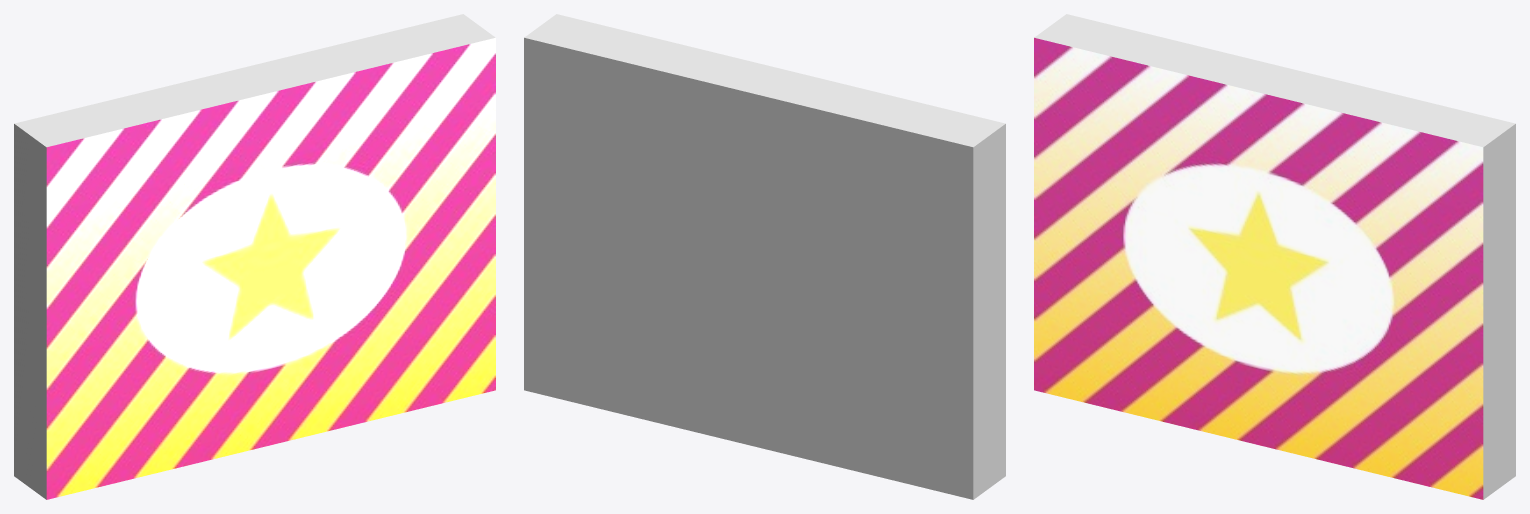
File: pp_drop.glb
The picture shows the model from 3 angles, left to right: view 1: azimuth 30°, elevation 25°; view 2: azimuth 150°, elevation 25°; view 3: azimuth 330°, elevation 25°; orthographic projection.
Visible parts, largest first — view 1: Face; view 2: Face; view 3: Face.
Part boxes in pixels (left/top/right/bottom): Face: left=14, top=14, right=495, bottom=499; Face: left=524, top=14, right=1005, bottom=499; Face: left=1034, top=14, right=1515, bottom=499.
Size of the model in its own units: 0.04 by 0.03 by 0.005.
Materials: 6 (1 with a texture image).
